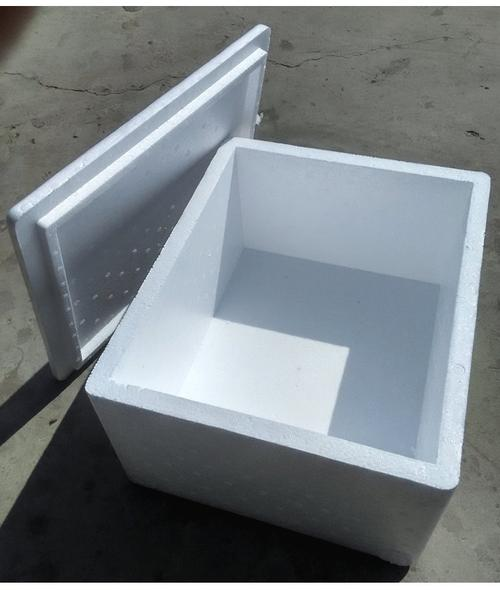Boxes: (86, 139, 489, 565)
